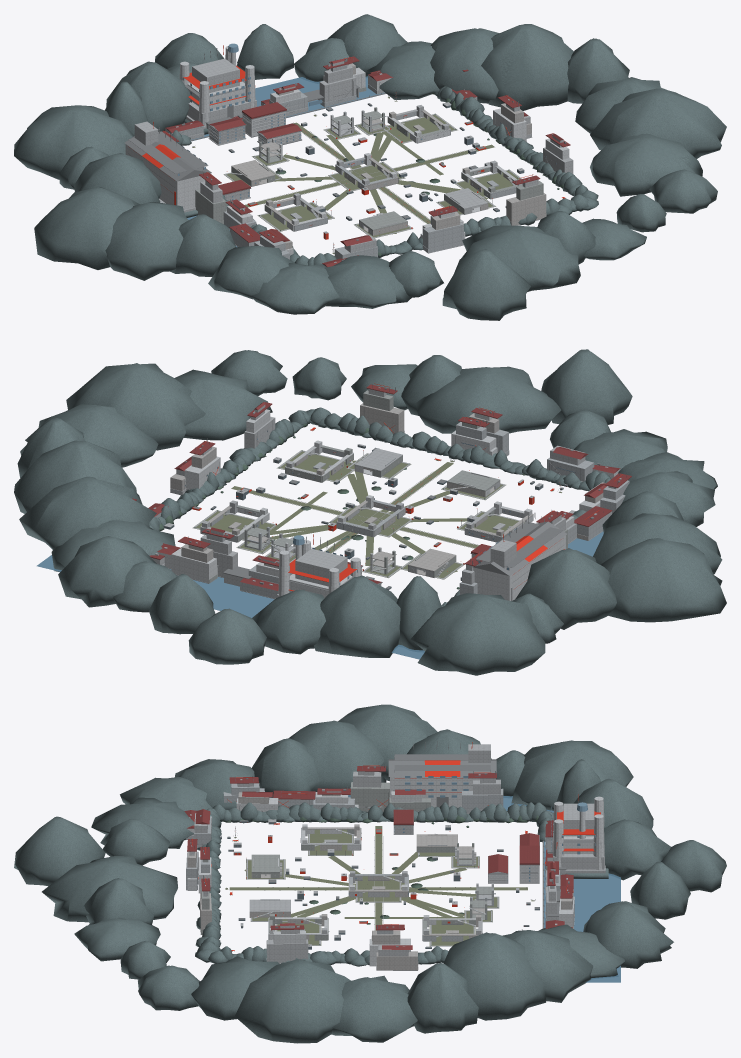
File: misaki-lod0.glb
The picture shows the model from 3 angles, top to bottom: view 1: azimuth 30°, elevation 25°; view 2: azimuth 150°, elevation 25°; view 3: azimuth 270°, elevation 25°; orthographic projection. The views are drawn at different scales.
Visible parts, largest first — view 1: HB_misaki_LOD0_terrain, HB_misaki_LOD0_wall_alt, HB_misaki_LOD0_road, HB_misaki_LOD0_wall, HB_misaki_LOD0_roof, HB_misaki_LOD0_wall_cool, HB_misaki_LOD0_wall_warm, HB_misaki_LOD0_wall_weathered, HB_misaki_LOD0_trim, HB_misaki_LOD0_LANDMARK_0_wall_alt, HB_misaki_LOD0_LANDMARK_0_wall, HB_misaki_LOD0_LANDMARK_1_trim (+5 smaller); view 2: HB_misaki_LOD0_terrain, HB_misaki_LOD0_wall_alt, HB_misaki_LOD0_road, HB_misaki_LOD0_wall, HB_misaki_LOD0_wall_warm, HB_misaki_LOD0_wall_cool, HB_misaki_LOD0_roof, HB_misaki_LOD0_wall_weathered, HB_misaki_LOD0_water, HB_misaki_LOD0_LANDMARK_1_trim, HB_misaki_LOD0_trim, HB_misaki_LOD0_LANDMARK_0_wall (+6 smaller); view 3: HB_misaki_LOD0_terrain, HB_misaki_LOD0_road, HB_misaki_LOD0_wall_alt, HB_misaki_LOD0_roof, HB_misaki_LOD0_wall_warm, HB_misaki_LOD0_wall, HB_misaki_LOD0_wall_weathered, HB_misaki_LOD0_wall_cool, HB_misaki_LOD0_water, HB_misaki_LOD0_trim, HB_misaki_LOD0_LANDMARK_1_trim, HB_misaki_LOD0_LANDMARK_0_wall (+4 smaller).
Part boxes in pixels (x1=…): HB_misaki_LOD0_terrain: x1=14, y1=14, x2=726, y2=320; HB_misaki_LOD0_wall_alt: x1=176, y1=61, x2=573, y2=262; HB_misaki_LOD0_road: x1=192, y1=97, x2=519, y2=253; HB_misaki_LOD0_wall: x1=227, y1=67, x2=569, y2=267; HB_misaki_LOD0_roof: x1=162, y1=56, x2=570, y2=267; HB_misaki_LOD0_wall_cool: x1=165, y1=64, x2=554, y2=259; HB_misaki_LOD0_wall_warm: x1=231, y1=63, x2=546, y2=249; HB_misaki_LOD0_wall_weathered: x1=195, y1=87, x2=546, y2=230; HB_misaki_LOD0_trim: x1=158, y1=56, x2=566, y2=260; HB_misaki_LOD0_LANDMARK_0_wall_alt: x1=186, y1=58, x2=256, y2=128; HB_misaki_LOD0_LANDMARK_0_wall: x1=179, y1=46, x2=255, y2=125; HB_misaki_LOD0_LANDMARK_1_trim: x1=124, y1=127, x2=211, y2=187; HB_misaki_LOD0_terrain: x1=14, y1=349, x2=726, y2=675; HB_misaki_LOD0_wall_alt: x1=151, y1=387, x2=621, y2=599; HB_misaki_LOD0_road: x1=193, y1=429, x2=561, y2=579; HB_misaki_LOD0_wall: x1=157, y1=409, x2=619, y2=583; HB_misaki_LOD0_wall_warm: x1=170, y1=403, x2=605, y2=589; HB_misaki_LOD0_wall_cool: x1=155, y1=422, x2=629, y2=598; HB_misaki_LOD0_roof: x1=132, y1=384, x2=631, y2=590; HB_misaki_LOD0_wall_weathered: x1=209, y1=390, x2=567, y2=583; HB_misaki_LOD0_water: x1=37, y1=531, x2=603, y2=659; HB_misaki_LOD0_LANDMARK_1_trim: x1=472, y1=513, x2=567, y2=581; HB_misaki_LOD0_trim: x1=158, y1=384, x2=626, y2=588; HB_misaki_LOD0_LANDMARK_0_wall: x1=278, y1=540, x2=361, y2=597; HB_misaki_LOD0_terrain: x1=14, y1=704, x2=726, y2=1043; HB_misaki_LOD0_road: x1=225, y1=824, x2=534, y2=951; HB_misaki_LOD0_wall_alt: x1=186, y1=767, x2=574, y2=970; HB_misaki_LOD0_roof: x1=184, y1=766, x2=573, y2=949; HB_misaki_LOD0_wall_warm: x1=187, y1=792, x2=573, y2=970; HB_misaki_LOD0_wall: x1=186, y1=791, x2=574, y2=965; HB_misaki_LOD0_wall_weathered: x1=201, y1=782, x2=547, y2=940; HB_misaki_LOD0_wall_cool: x1=186, y1=783, x2=560, y2=961; HB_misaki_LOD0_water: x1=269, y1=795, x2=620, y2=982; HB_misaki_LOD0_trim: x1=189, y1=764, x2=569, y2=951; HB_misaki_LOD0_LANDMARK_1_trim: x1=388, y1=741, x2=496, y2=807; HB_misaki_LOD0_LANDMARK_0_wall: x1=553, y1=796, x2=604, y2=869.
Bounding box in the file's own units: 691 × 75.46 × 657.
Materials: 14 (12 with a texture image).
